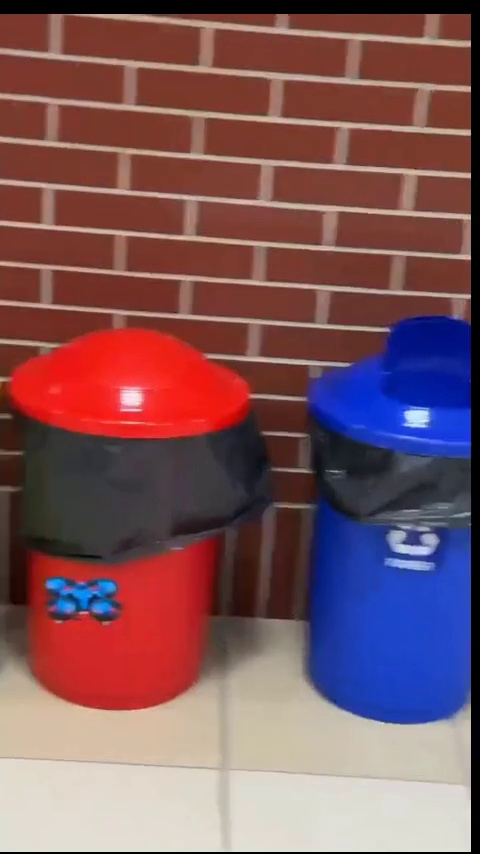drone: (41, 574, 114, 622)
